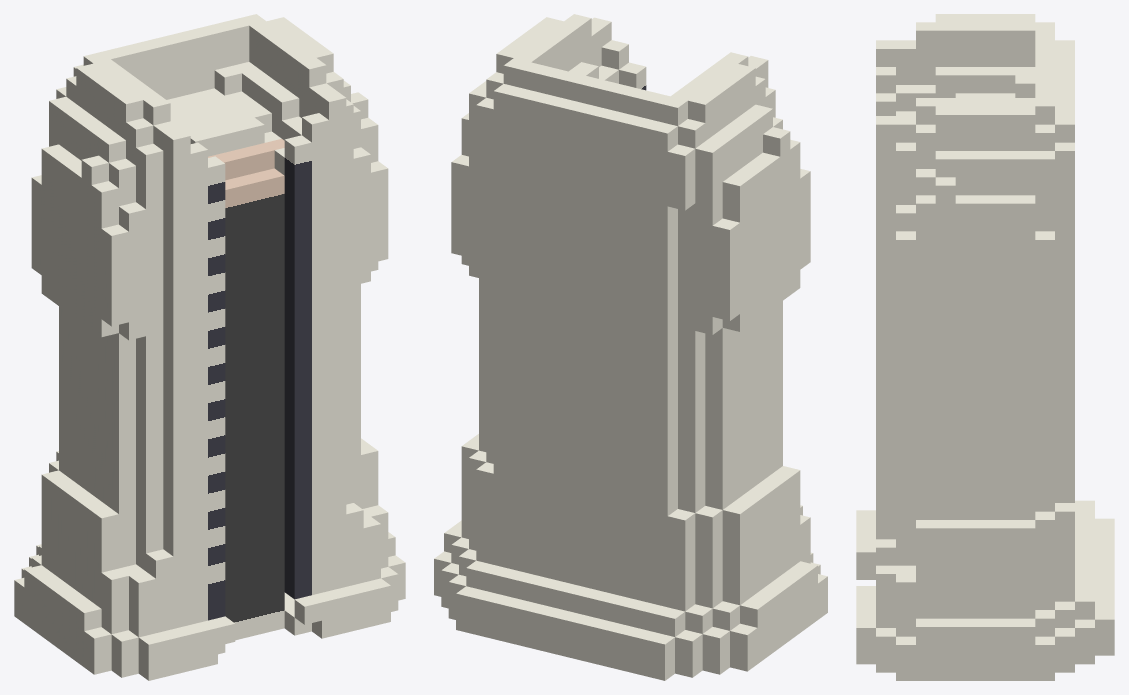
File: TORS_ZAMEK.dae
The picture shows the model from 3 angles, left to right: view 1: azimuth 30°, elevation 25°; view 2: azimuth 150°, elevation 25°; view 3: azimuth 270°, elevation 25°; orthographic projection.
Visible parts, largest first — view 1: Content; view 2: Content; view 3: Content.
Part boxes in pixels (x1,y1,x2,y2): Content: [14, 14, 405, 680]; Content: [434, 14, 827, 680]; Content: [856, 14, 1114, 680].
Size of the model in its own units: 18 by 30 by 13.
1 material, 1 textured.
